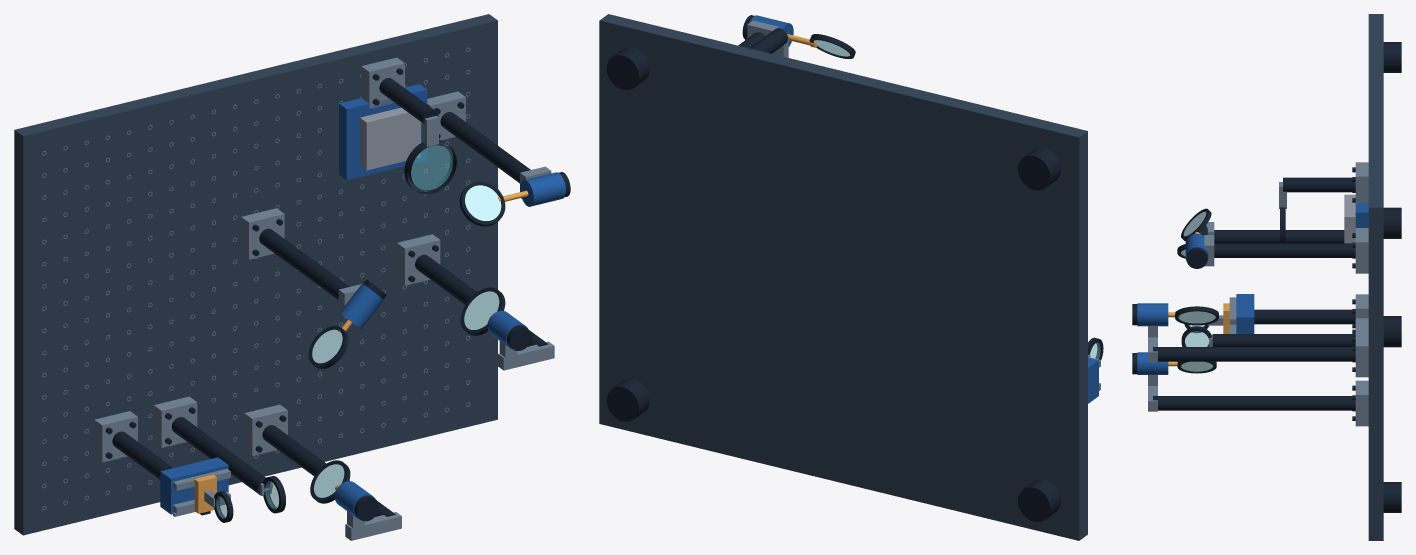
The model's file is 五轴扫描头-AOI7度-V2.glb.
3 views of the same model, side by side, from view 1: azimuth 30°, elevation 25°; view 2: azimuth 150°, elevation 25°; view 3: azimuth 270°, elevation 25° (orthographic). The views are drawn at different scales.
Visible parts, largest first — view 1: 静止光学平台 560×450×18, 静止平台与工件, 工件_上表面Z0, 固定工件台_无电机, L2-立柱, M2-立柱, M4-立柱, M5-直线电机定子, L3-单片基体, L2-底座, M1-底座, M5-底座 (+21 smaller); view 2: 静止光学平台 560×450×18, 隔振脚_被动 (×4); view 3: 静止光学平台 560×450×18, M1-立柱, M3-立柱, 隔振脚_被动 (×4), M4-立柱, L2-立柱, M2-立柱, M5-立柱, L3-立柱, M5-直线电机定子, M3-旋转振镜电机, M1-底座 (+11 smaller).
Part boxes in pixels (box(x1,y1,x2,y2)): 静止光学平台 560×450×18: box(14, 14, 497, 535); 静止平台与工件: box(42, 47, 470, 510); 工件_上表面Z0: box(360, 107, 420, 170); 固定工件台_无电机: box(339, 84, 427, 179); L2-立柱: box(171, 417, 272, 495); M2-立柱: box(259, 228, 349, 299); M4-立柱: box(440, 112, 530, 183); M5-直线电机定子: box(160, 457, 228, 514); L3-单片基体: box(411, 145, 452, 190); L2-底座: box(153, 396, 197, 447); M1-底座: box(244, 404, 287, 455); M5-底座: box(94, 411, 137, 462); 静止光学平台 560×450×18: box(599, 14, 1087, 540); 隔振脚_被动 (×4): box(606, 47, 1061, 522); 静止光学平台 560×450×18: box(1368, 14, 1383, 540); M1-立柱: box(1153, 396, 1355, 410); M3-立柱: box(1153, 347, 1355, 361); 隔振脚_被动 (×4): box(1383, 42, 1401, 512); M4-立柱: box(1214, 243, 1355, 257); L2-立柱: box(1212, 334, 1355, 346); M2-立柱: box(1214, 230, 1344, 243); M5-立柱: box(1254, 309, 1355, 324); L3-立柱: box(1283, 177, 1355, 192); M5-直线电机定子: box(1236, 294, 1254, 333); M3-旋转振镜电机: box(1137, 303, 1168, 326); M1-底座: box(1355, 380, 1368, 426).
Bounding box in the file's own units: 0.56 × 0.45 × 0.329.
